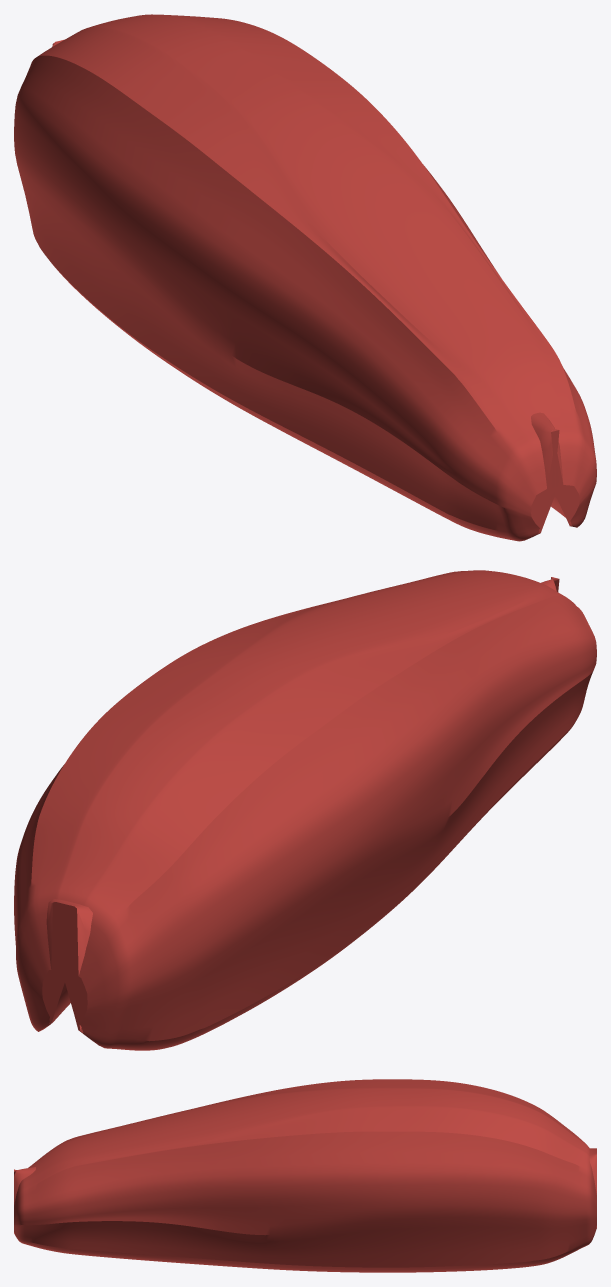
Rendered from cruiser_2.glb.
3 renders of one model, top to bottom at view 1: azimuth 30°, elevation 25°; view 2: azimuth 150°, elevation 25°; view 3: azimuth 270°, elevation 25°, orthographic. The views are drawn at different scales.
Visible parts, largest first — view 1: lod0; view 2: lod0; view 3: lod0.
Boxes of the visible parts, x1=… form: lod0: x1=14, y1=14, x2=596, y2=541; lod0: x1=14, y1=570, x2=596, y2=1050; lod0: x1=14, y1=1079, x2=596, y2=1272.
Size of what is drawn, in the model's own units: 0.3284 by 0.3079 by 1.06.
